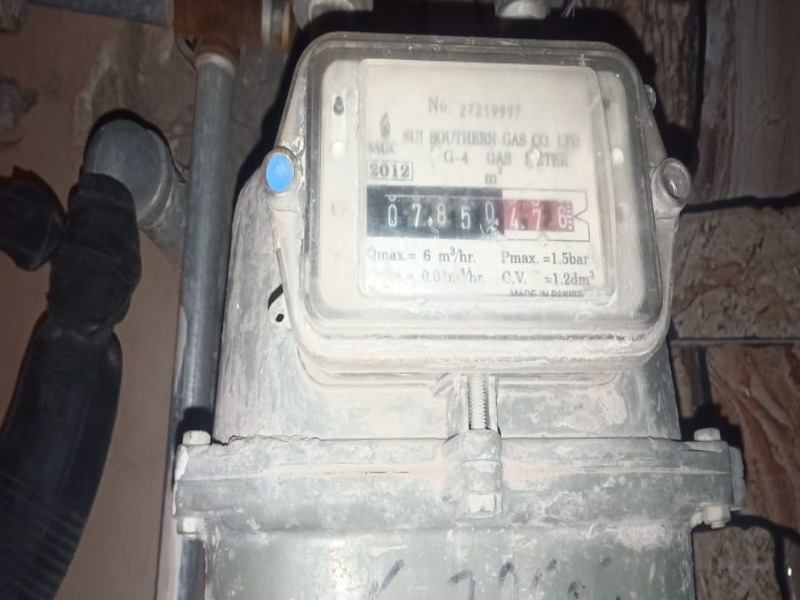ssgc: (368, 188, 582, 236)
